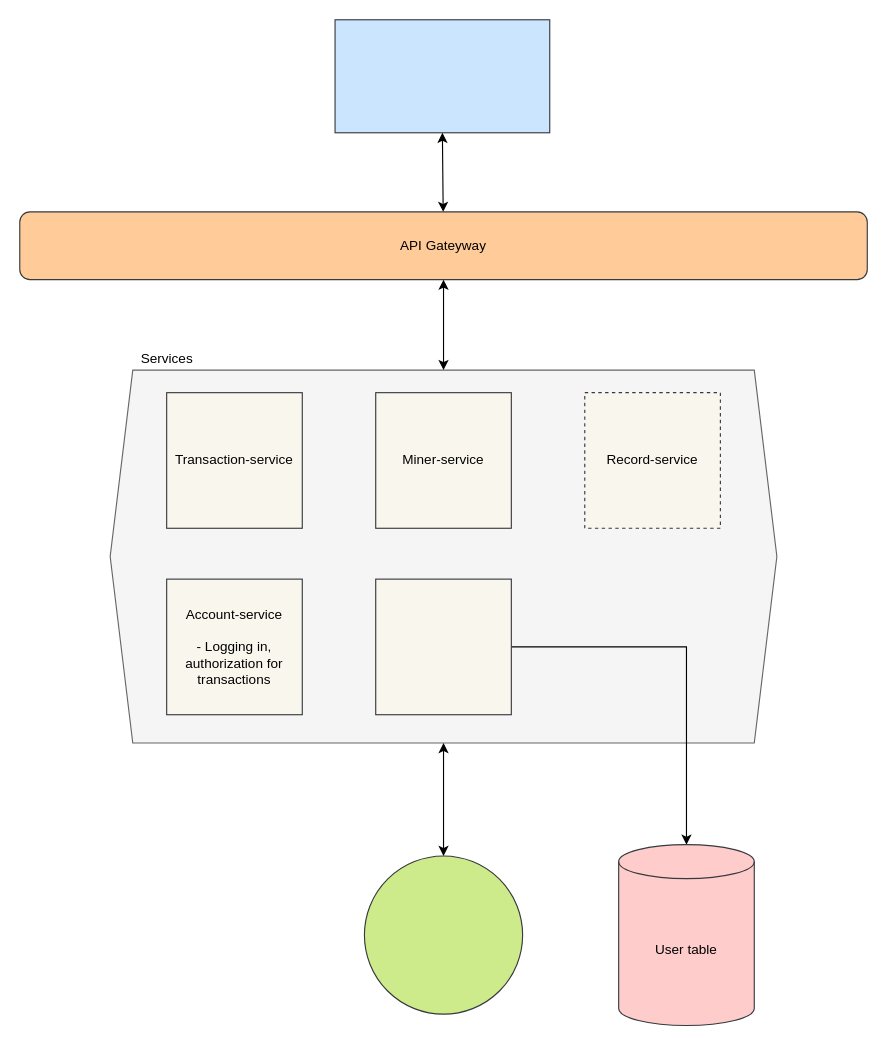
Some shapes in this 887 by 1045 pixel diagram are drawn without their labels. The shapes that lost their labels are listed below. From the top down, each one's centre as x and y in pixels, then its label:
At point 442,76: "Web App".
At point 443,646: "User-service".
At point 443,934: "Blockchain".
